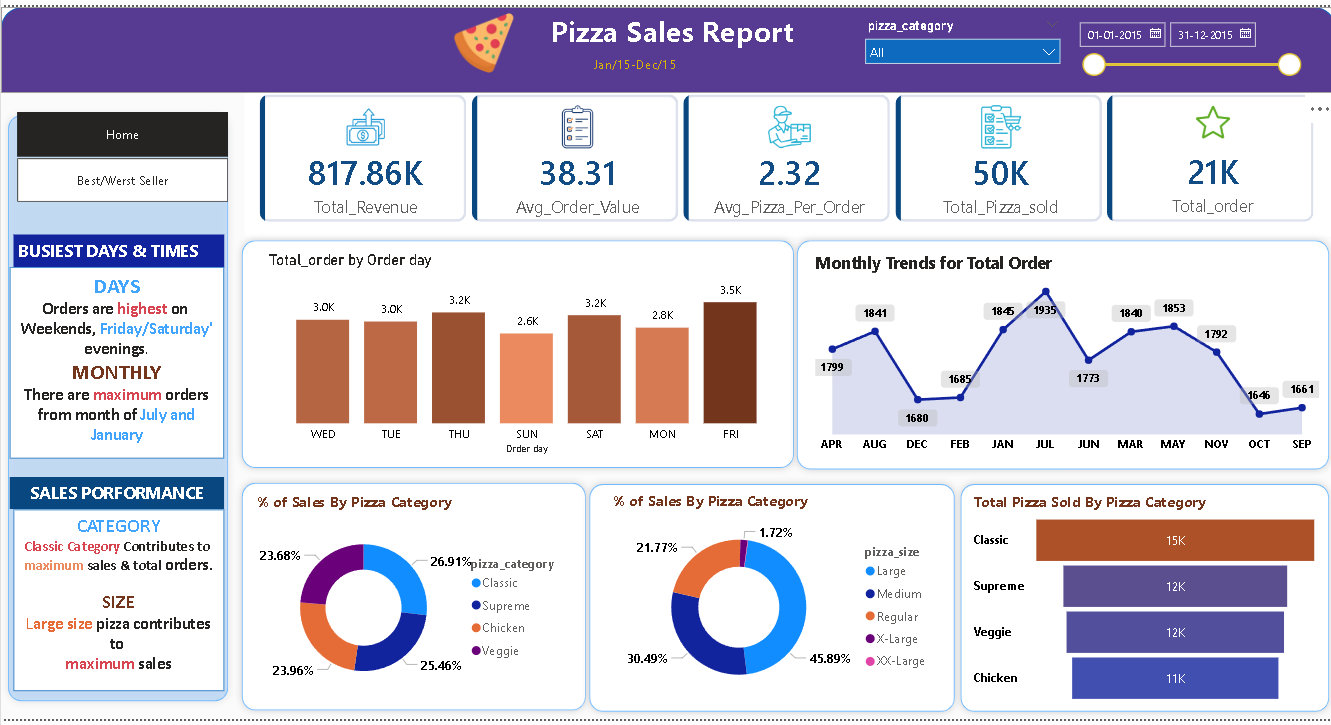

What the dashboard file says about the page in this screenshot:
{"tool":"powerbi","page":{"name":"Home","canvas":[1500,800],"ordinal":0},"visuals":[{"type":"shape","box":[0,113.5,263.1,674.2],"z":0},{"type":"cardVisual","fields":{"Data":["pizza_sales_excel_file.Total_Revenue","pizza_sales_excel_file.Avg_Order_Value","pizza_sales_excel_file.Avg_Pizza_Per_Order","pizza_sales_excel_file.Total_Pizza_sold","pizza_sales_excel_file.Total_order"]},"box":[273.5,80.8,1222.8,177.1],"z":1000},{"type":"shape","box":[0,0,1499.7,96.4],"z":2000},{"type":"textbox","box":[600.2,0,309.4,81.2],"z":3000},{"type":"textbox","box":[654.3,49,116.7,47.3],"z":4000},{"type":"image","box":[473.4,5.1,138.6,69.3],"z":5000},{"type":"shape","box":[263.1,254.5,636.3,271.7],"z":6000},{"type":"columnChart","fields":{"Category":["pizza_sales_excel_file.Order day"],"Y":["pizza_sales_excel_file.Total_order"]},"box":[295.8,273.5,589.9,233.9],"z":7000},{"type":"shape","box":[885.7,254.5,614,273.5],"z":8000},{"type":"areaChart","title":"Monthly Trends for Total Order","fields":{"Category":["pizza_sales_excel_file.Order Month"],"Y":["pizza_sales_excel_file.Total_order"]},"box":[909.8,273.5,576.1,235.6],"z":9000},{"type":"shape","box":[263.1,526.3,402.4,271.7],"z":10000},{"type":"shape","box":[1069.7,528,430,271.7],"z":11000},{"type":"shape","box":[653.5,528,426.5,271.7],"z":12000},{"type":"donutChart","title":"% of Sales By Pizza Category","fields":{"Category":["pizza_sales_excel_file.pizza_category"],"Y":["pizza_sales_excel_file.Total_Revenue"]},"box":[282,543.5,359.4,240.8],"z":13000},{"type":"textbox","box":[14.2,255,236.5,37],"z":14000},{"type":"donutChart","title":"% of Sales By Pizza Category","fields":{"Y":["pizza_sales_excel_file.Total_Revenue"],"Category":["pizza_sales_excel_file.pizza_size"]},"box":[682.8,541.7,373.2,242.5],"z":15000},{"type":"funnel","title":"Total Pizza Sold By Pizza Category","fields":{"Y":["pizza_sales_excel_file.Total_Pizza_sold"],"Category":["pizza_sales_excel_file.pizza_category"]},"box":[1088.6,543.5,397.3,244.2],"z":16000},{"type":"textbox","box":[10,292,240.7,215.1],"z":17000},{"type":"textbox","box":[10,528.5,240.7,35.6],"z":18000},{"type":"textbox","box":[14.2,564.1,236.5,203.7],"z":19000},{"type":"slicer","fields":{"Values":["pizza_sales_excel_file.pizza_category"]},"box":[960.1,7.1,239.3,81.2],"z":20000},{"type":"slicer","fields":{"Values":["pizza_sales_excel_file.order_date"]},"box":[1199.4,7.1,269.2,81.2],"z":21000},{"type":"pageNavigator","box":[18.6,118.6,237.3,50.8],"z":22000},{"type":"pageNavigator","box":[18.6,169.5,237.3,49.2],"z":23000}]}

Visuals, with their boxes in screenshot pixels (x1, y1, x2, y2), scaled from the page's 1500x800 canvas onto the 1331x725 screenshot:
shape: <box>0,103,233,714</box>
cardVisual - pizza_sales_excel_file.Total_Revenue x pizza_sales_excel_file.Avg_Order_Value: <box>243,73,1328,234</box>
shape: <box>0,0,1330,87</box>
textbox: <box>533,0,807,74</box>
textbox: <box>581,44,684,87</box>
image: <box>420,5,543,67</box>
shape: <box>233,231,798,477</box>
columnChart - pizza_sales_excel_file.Order day x pizza_sales_excel_file.Total_order: <box>262,248,786,460</box>
shape: <box>786,231,1330,478</box>
"Monthly Trends for Total Order" areaChart: <box>807,248,1318,461</box>
shape: <box>233,477,591,723</box>
shape: <box>949,478,1330,724</box>
shape: <box>580,478,958,724</box>
"% of Sales By Pizza Category" donutChart: <box>250,493,569,711</box>
textbox: <box>13,231,222,265</box>
"% of Sales By Pizza Category" donutChart: <box>606,491,937,711</box>
"Total Pizza Sold By Pizza Category" funnel: <box>966,493,1318,714</box>
textbox: <box>9,265,222,460</box>
textbox: <box>9,479,222,511</box>
textbox: <box>13,511,222,696</box>
slicer - pizza_sales_excel_file.pizza_category: <box>852,6,1064,80</box>
slicer - pizza_sales_excel_file.order_date: <box>1064,6,1303,80</box>
pageNavigator: <box>17,107,227,154</box>
pageNavigator: <box>17,154,227,198</box>
